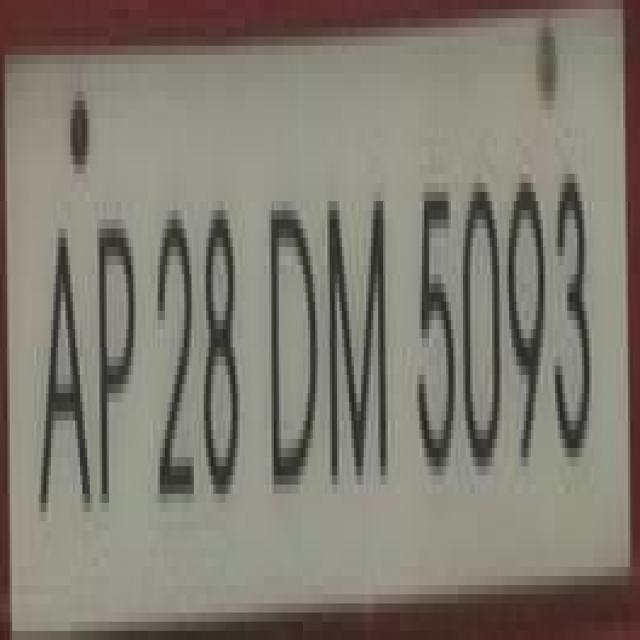license_plate: (31, 0, 640, 612)
